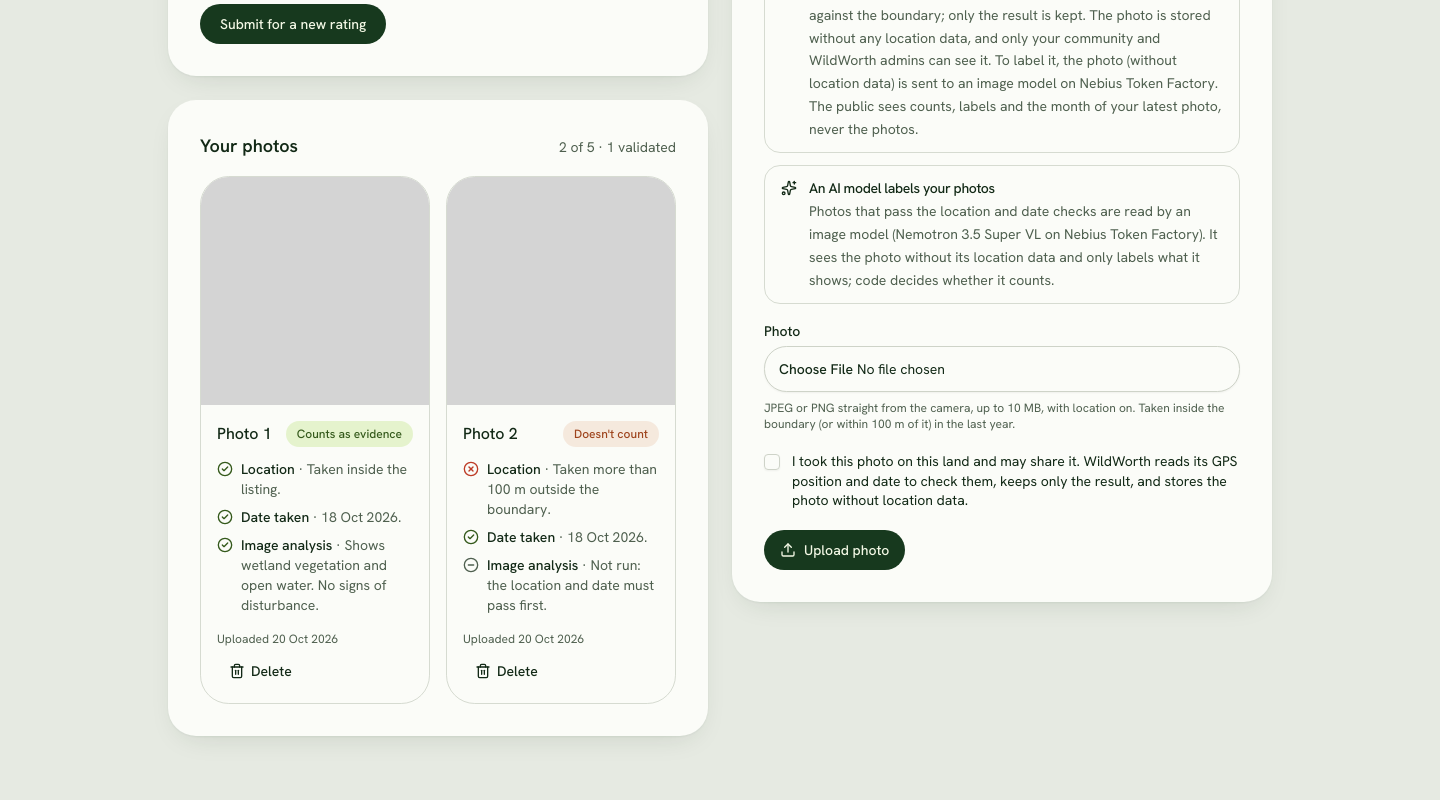
it: FieldEvidenceScreen › asks before deleting a photo, and cancelling sends nothing
(page scrolled)
Click the button with aria-label "Delete photo 1".
click(260, 670)  # box 217,654 -> 304,686
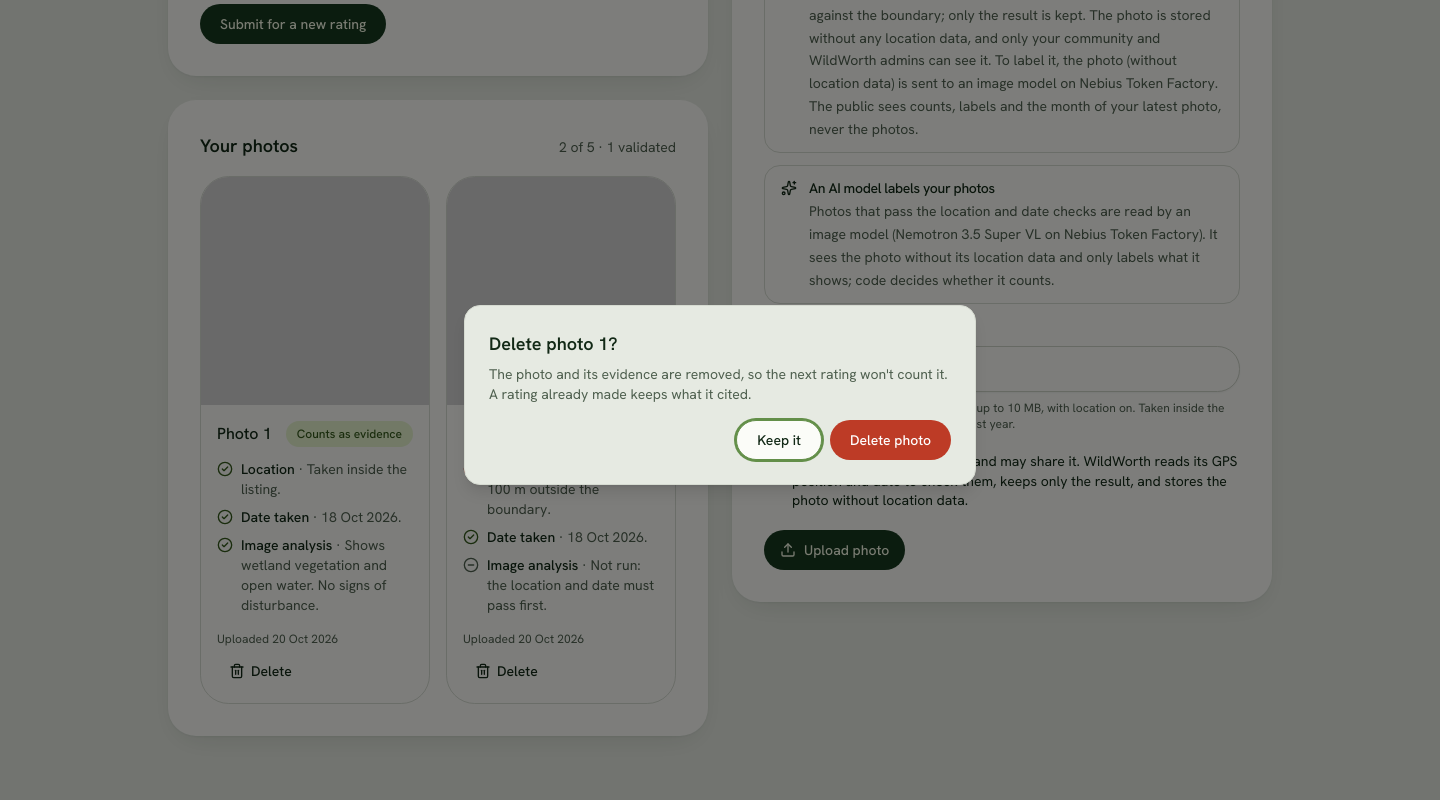
Check: the text "the next rating won't count it" is shown, box 489,365 -> 948,403
Click the button "Keep it".
click(779, 440)  # box 736,420 -> 822,460
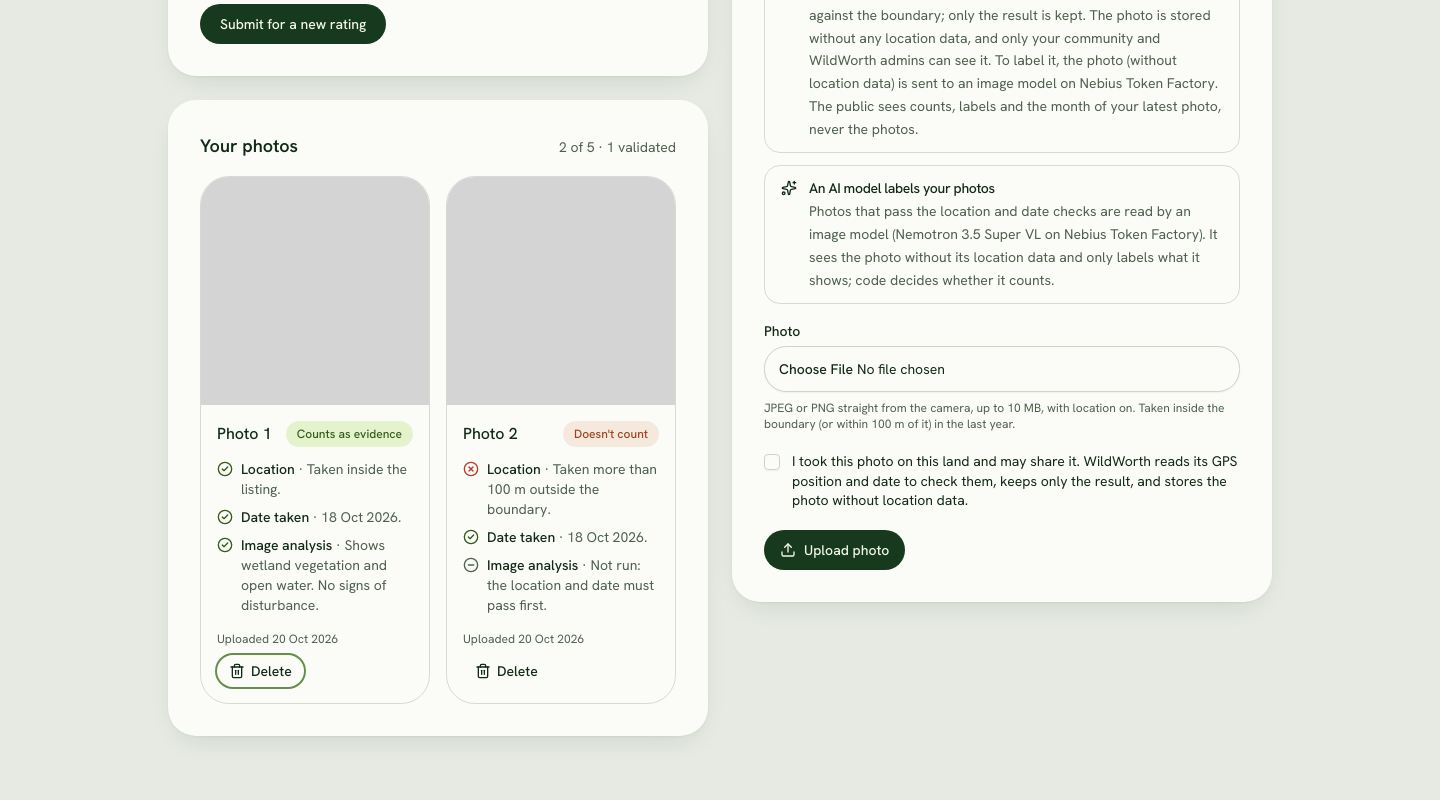
Check: the text "Counts as evidence" is shown, box 286,420 -> 413,446
Check: the dialog is gone
